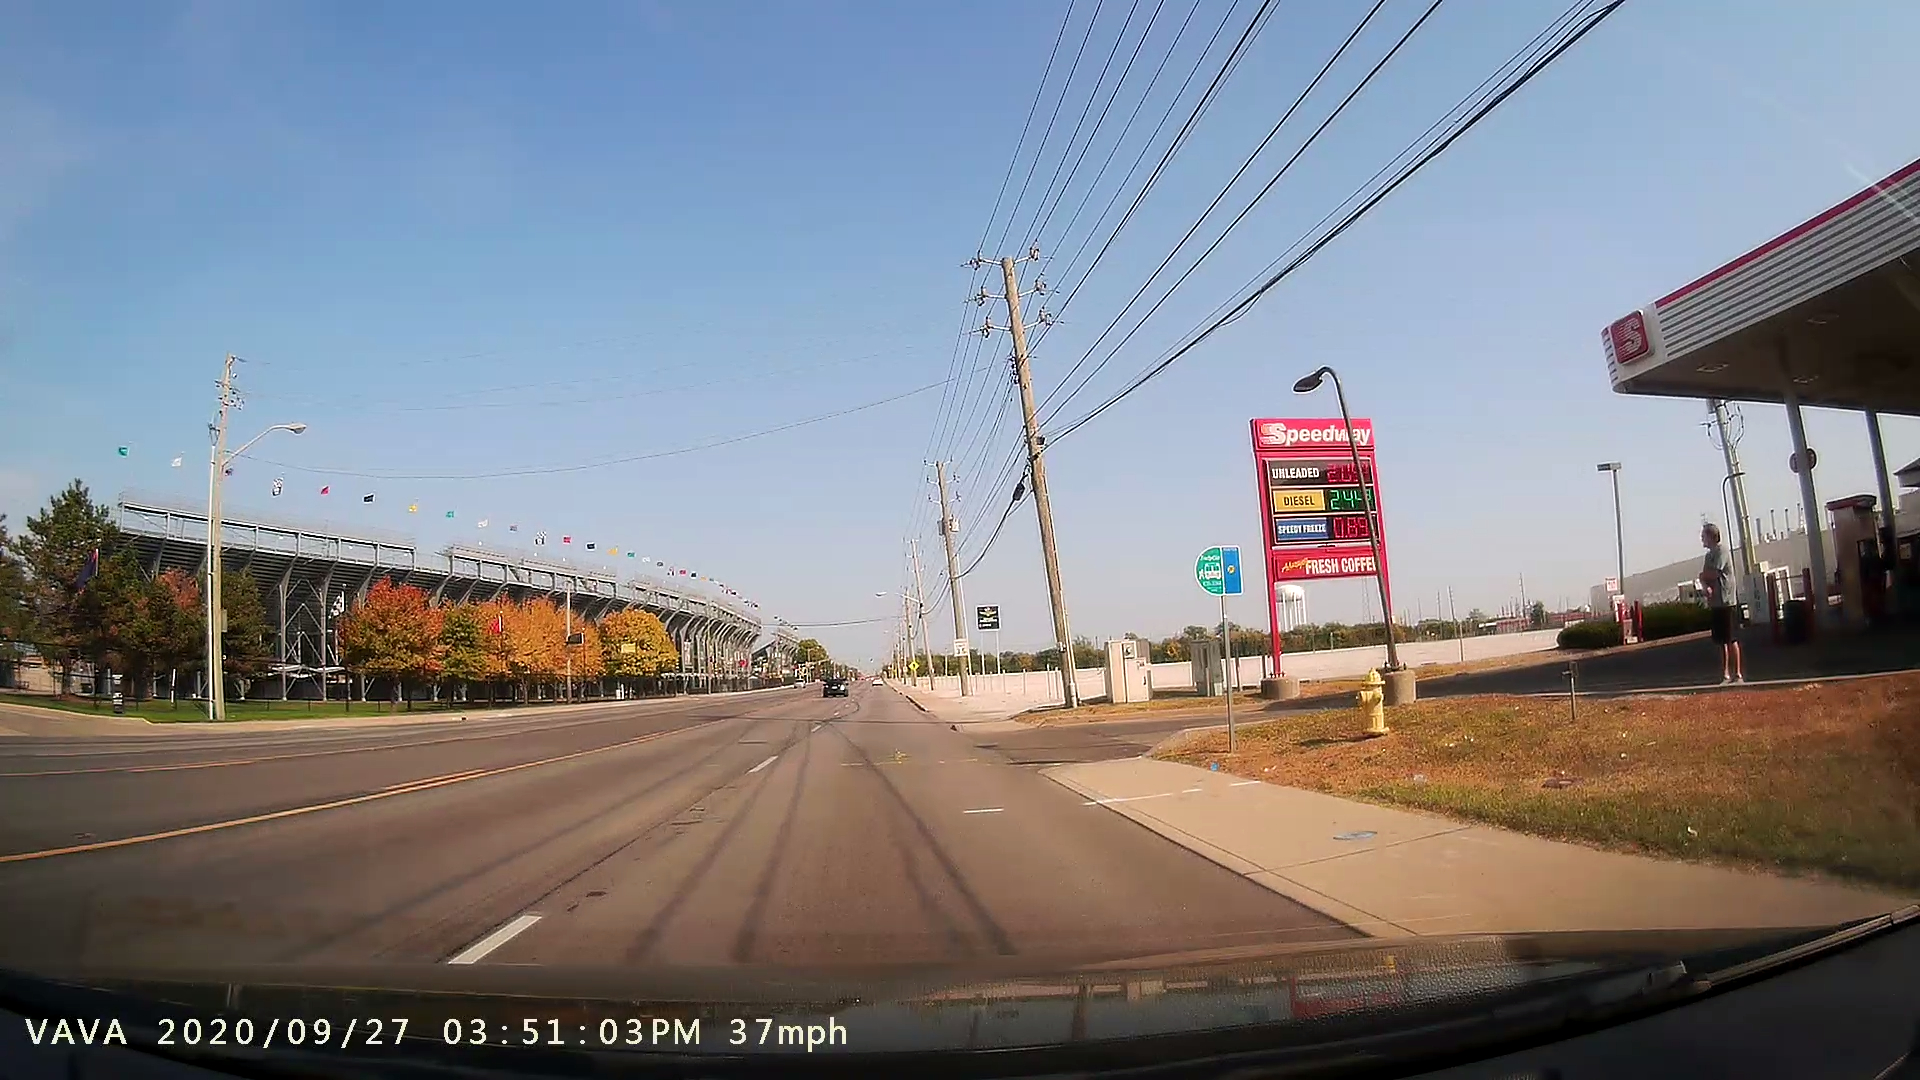fire_hydrant: (1350, 666, 1396, 746)
